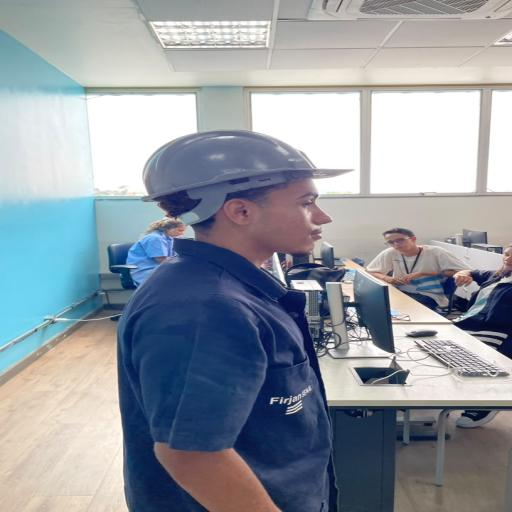CAPACETE: (141, 129, 355, 202)
